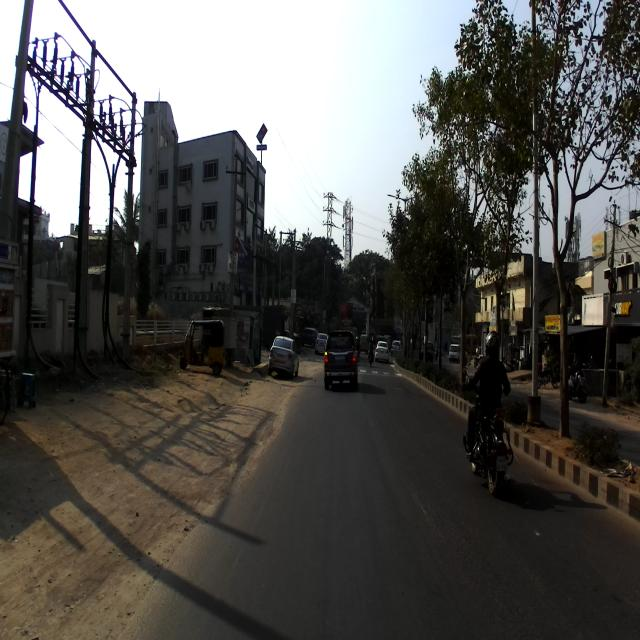auto ahead at: (180, 317, 227, 377)
car ahead at: (322, 330, 362, 396)
electric pole ahead at: (117, 84, 139, 377)
motorcycle ahead at: (462, 400, 516, 500)
